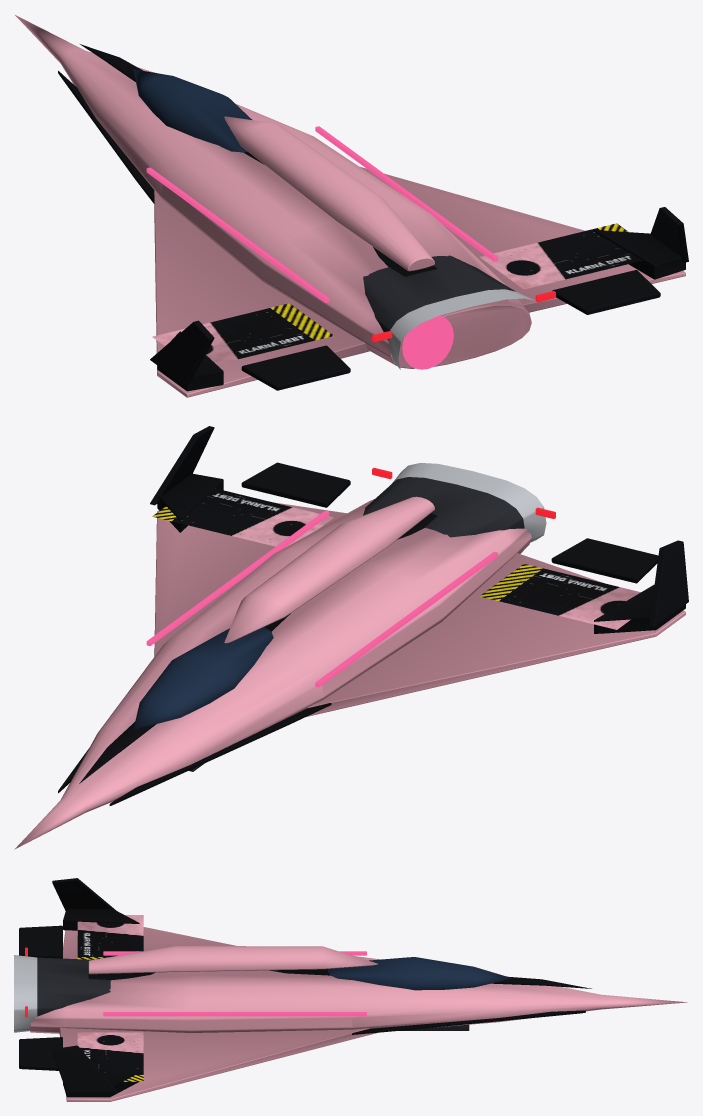
The model's file is craft_4.glb.
3 renders of one model, top to bottom at view 1: azimuth 30°, elevation 25°; view 2: azimuth 150°, elevation 25°; view 3: azimuth 270°, elevation 25°, orthographic. The views are drawn at different scales.
Parts seen in each view (by area): view 1: craft_4_body, craft_4_livery_R, craft_4_canopy, craft_4_livery_L, flap_L_plate.004, flap_R_plate.004; view 2: craft_4_body, craft_4_canopy, craft_4_livery_L, craft_4_livery_R, flap_R_plate.004, flap_L_plate.004; view 3: craft_4_body, craft_4_canopy, craft_4_livery_R, craft_4_livery_L, flap_L_plate.004, flap_R_plate.004.
Part boxes in pixels (x1,y1,x2,y2): craft_4_body: [15, 15, 688, 397]; craft_4_livery_R: [480, 223, 642, 289]; craft_4_canopy: [133, 69, 251, 152]; craft_4_livery_L: [152, 303, 333, 364]; flap_L_plate.004: [241, 345, 350, 390]; flap_R_plate.004: [552, 270, 660, 314]; craft_4_body: [14, 426, 688, 849]; craft_4_canopy: [133, 627, 273, 729]; craft_4_livery_L: [479, 563, 640, 629]; craft_4_livery_R: [152, 488, 333, 547]; flap_R_plate.004: [241, 462, 350, 507]; flap_L_plate.004: [551, 538, 658, 583]; craft_4_body: [14, 878, 687, 1101]; craft_4_canopy: [327, 957, 512, 990]; craft_4_livery_R: [77, 1032, 143, 1081]; craft_4_livery_L: [77, 915, 143, 959]; flap_L_plate.004: [19, 925, 62, 958]; flap_R_plate.004: [19, 1037, 62, 1070].
Size of the model in its own units: 5.86 by 1.09 by 9.22.
9 materials, 1 textured.
